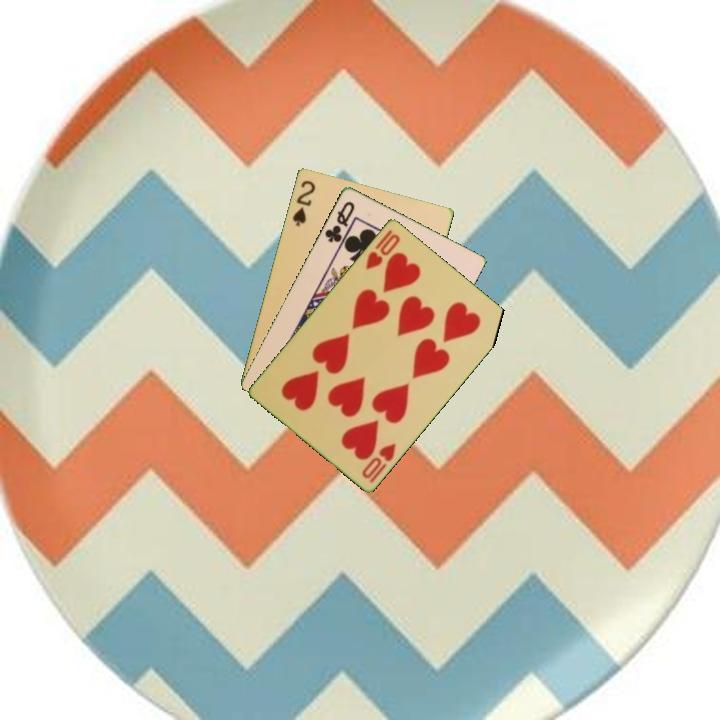10h: (362, 226, 403, 273), (358, 439, 399, 486)
2s: (288, 176, 318, 229)
Qc: (321, 197, 358, 245)
